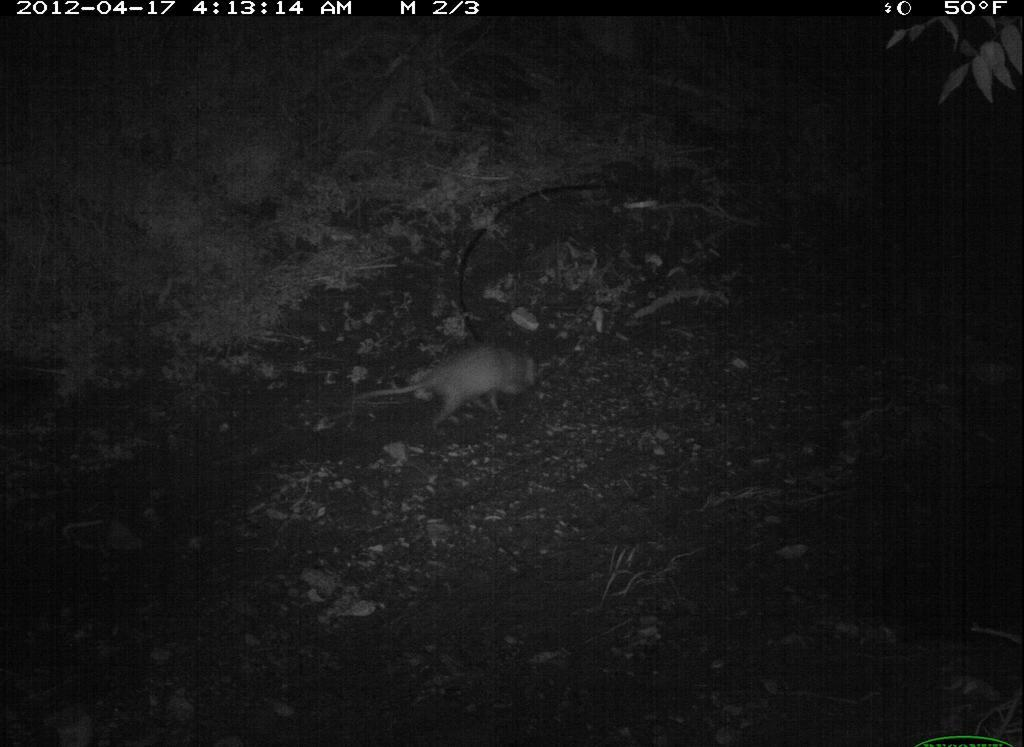opossum: (351, 332, 546, 446)
